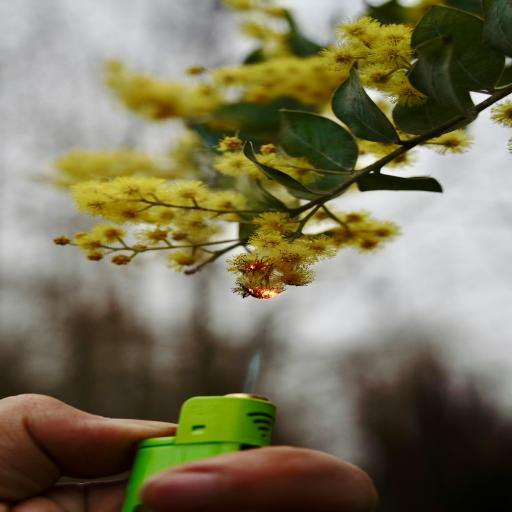lighter: (115, 346, 296, 512)
